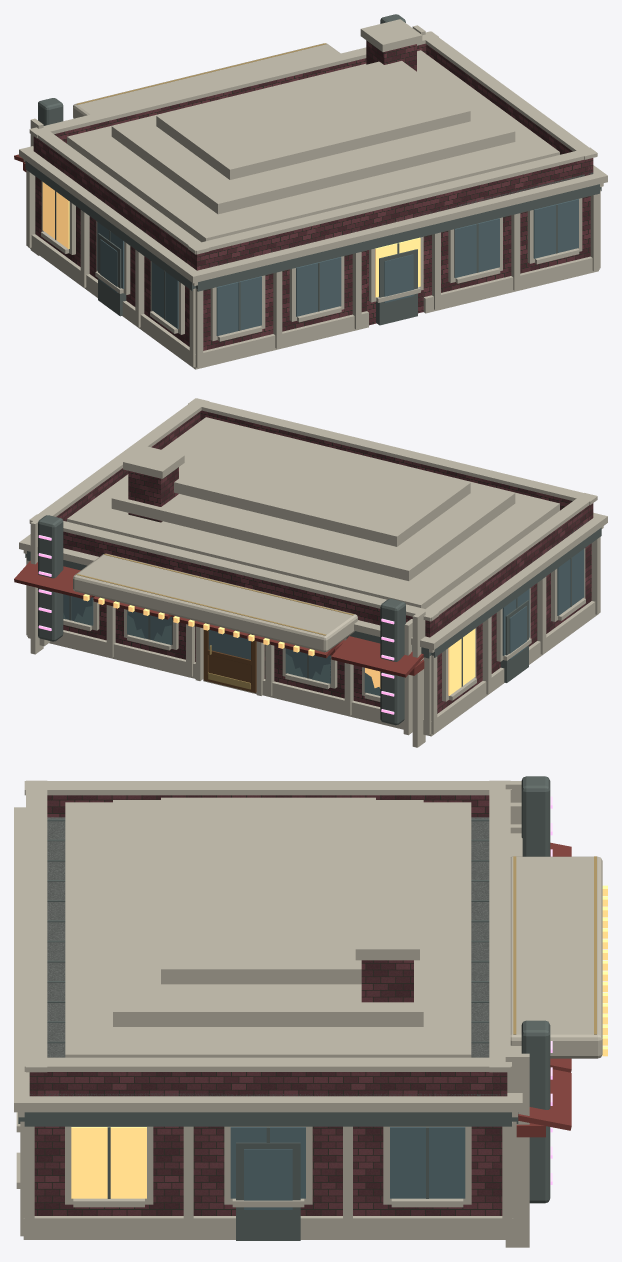
The model's file is papermoon.glb.
3 views of the same model, one above another, from view 1: azimuth 30°, elevation 25°; view 2: azimuth 150°, elevation 25°; view 3: azimuth 270°, elevation 25° (orthographic). The views are drawn at different scales.
Visible parts, largest first — view 1: foundation wing, masonry wing, window pane, roof tar seam, window pane.002, marquee brass edge, roof; view 2: foundation wing, masonry wing, roof tar seam, canvas awning, window pane, window pane.002, window pane.006, door bottom rail, window glass remnant, marquee brass edge, door glazing, neon blade tube; view 3: foundation wing, masonry wing, roof tar seam, window pane, roof, window pane.002, canvas awning, marquee brass edge.
Boxes of the visible parts, box(x1,y1,x2,y2) form: foundation wing: box(19, 19, 607, 369); masonry wing: box(33, 40, 593, 350); window pane: box(97, 199, 578, 335); roof tar seam: box(25, 14, 601, 330); window pane.002: box(42, 182, 420, 297); marquee brass edge: box(76, 43, 326, 104); roof: box(49, 161, 593, 267); foundation wing: box(19, 398, 607, 747); masonry wing: box(56, 410, 593, 713); roof tar seam: box(25, 515, 601, 725); canvas awning: box(14, 561, 424, 677); window pane: box(502, 549, 584, 659); window pane.002: box(83, 594, 475, 695); window pane.006: box(63, 594, 330, 683); door bottom rail: box(203, 630, 256, 692); window glass remnant: box(63, 606, 380, 695); marquee brass edge: box(76, 553, 354, 635); door glazing: box(208, 630, 250, 659); neon blade tube: box(38, 535, 394, 714); foundation wing: box(14, 780, 602, 1247); masonry wing: box(29, 795, 507, 1215); roof tar seam: box(18, 776, 550, 1240); window pane: box(230, 1127, 465, 1209); roof: box(30, 817, 507, 1096); window pane.002: box(71, 885, 607, 1198); canvas awning: box(516, 842, 571, 1137); marquee brass edge: box(513, 856, 596, 1034).
Bounding box in the file's own units: 14.65 × 5.99 × 12.44.
Materials: 13 (2 with a texture image).
